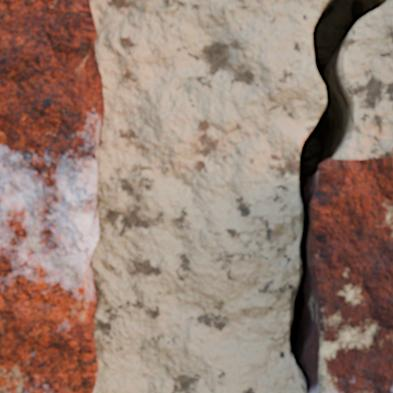brick: (0, 0, 103, 392), (306, 158, 392, 392)
crack: (288, 0, 392, 392)
